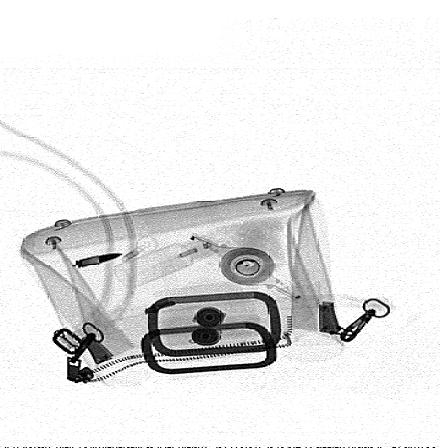Bullet: (75, 253, 123, 267)
